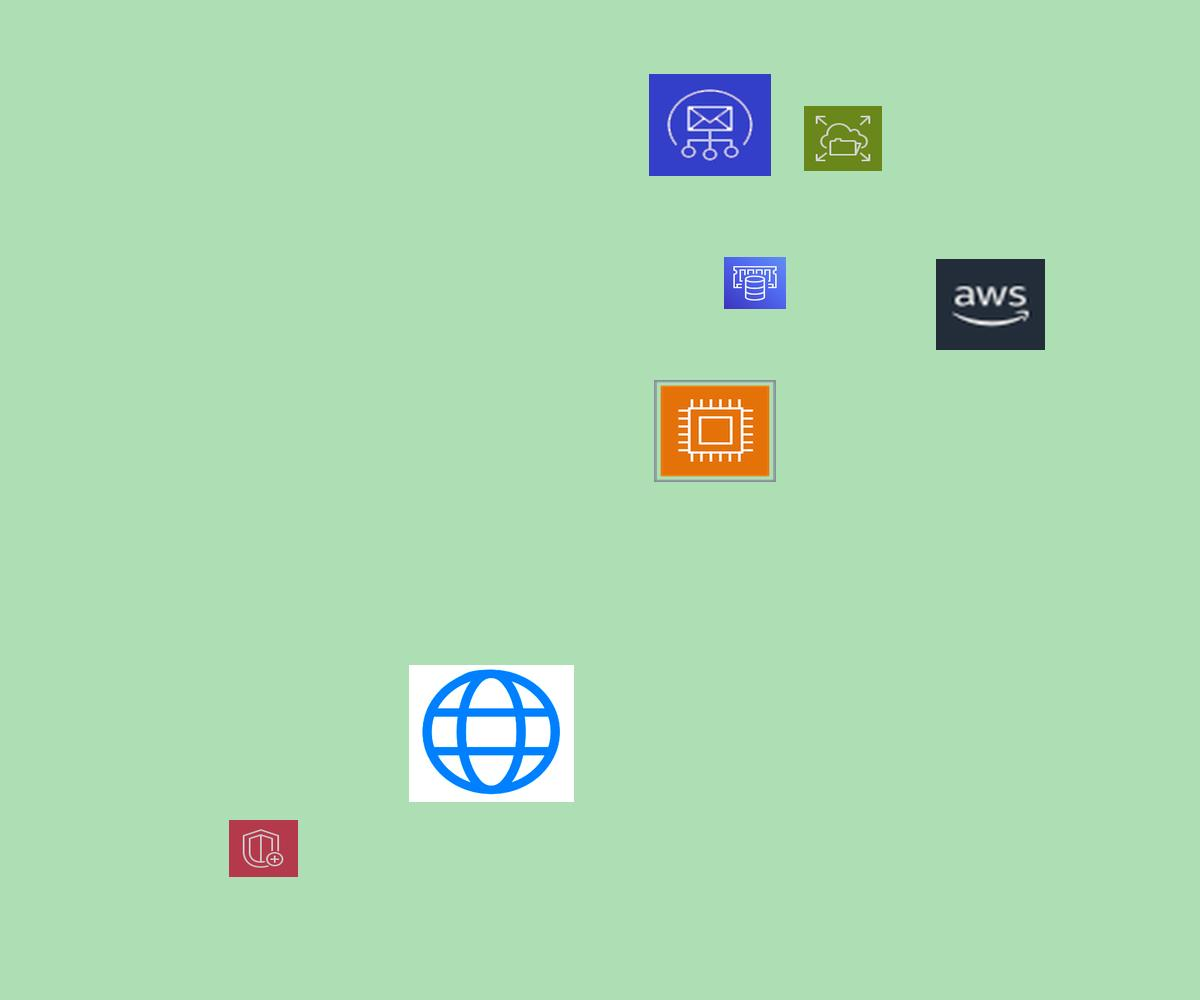AWS-Category_Compute: (654, 380, 776, 482)
AWS-Cloud-logo: (936, 259, 1045, 350)
AWS-EFS: (804, 106, 882, 171)
AWS-ElastiCache: (724, 257, 786, 309)
AWS-Shield: (229, 820, 298, 877)
AWS-Simple-Email-Service: (649, 74, 771, 176)
Azure_http: (409, 665, 574, 802)
